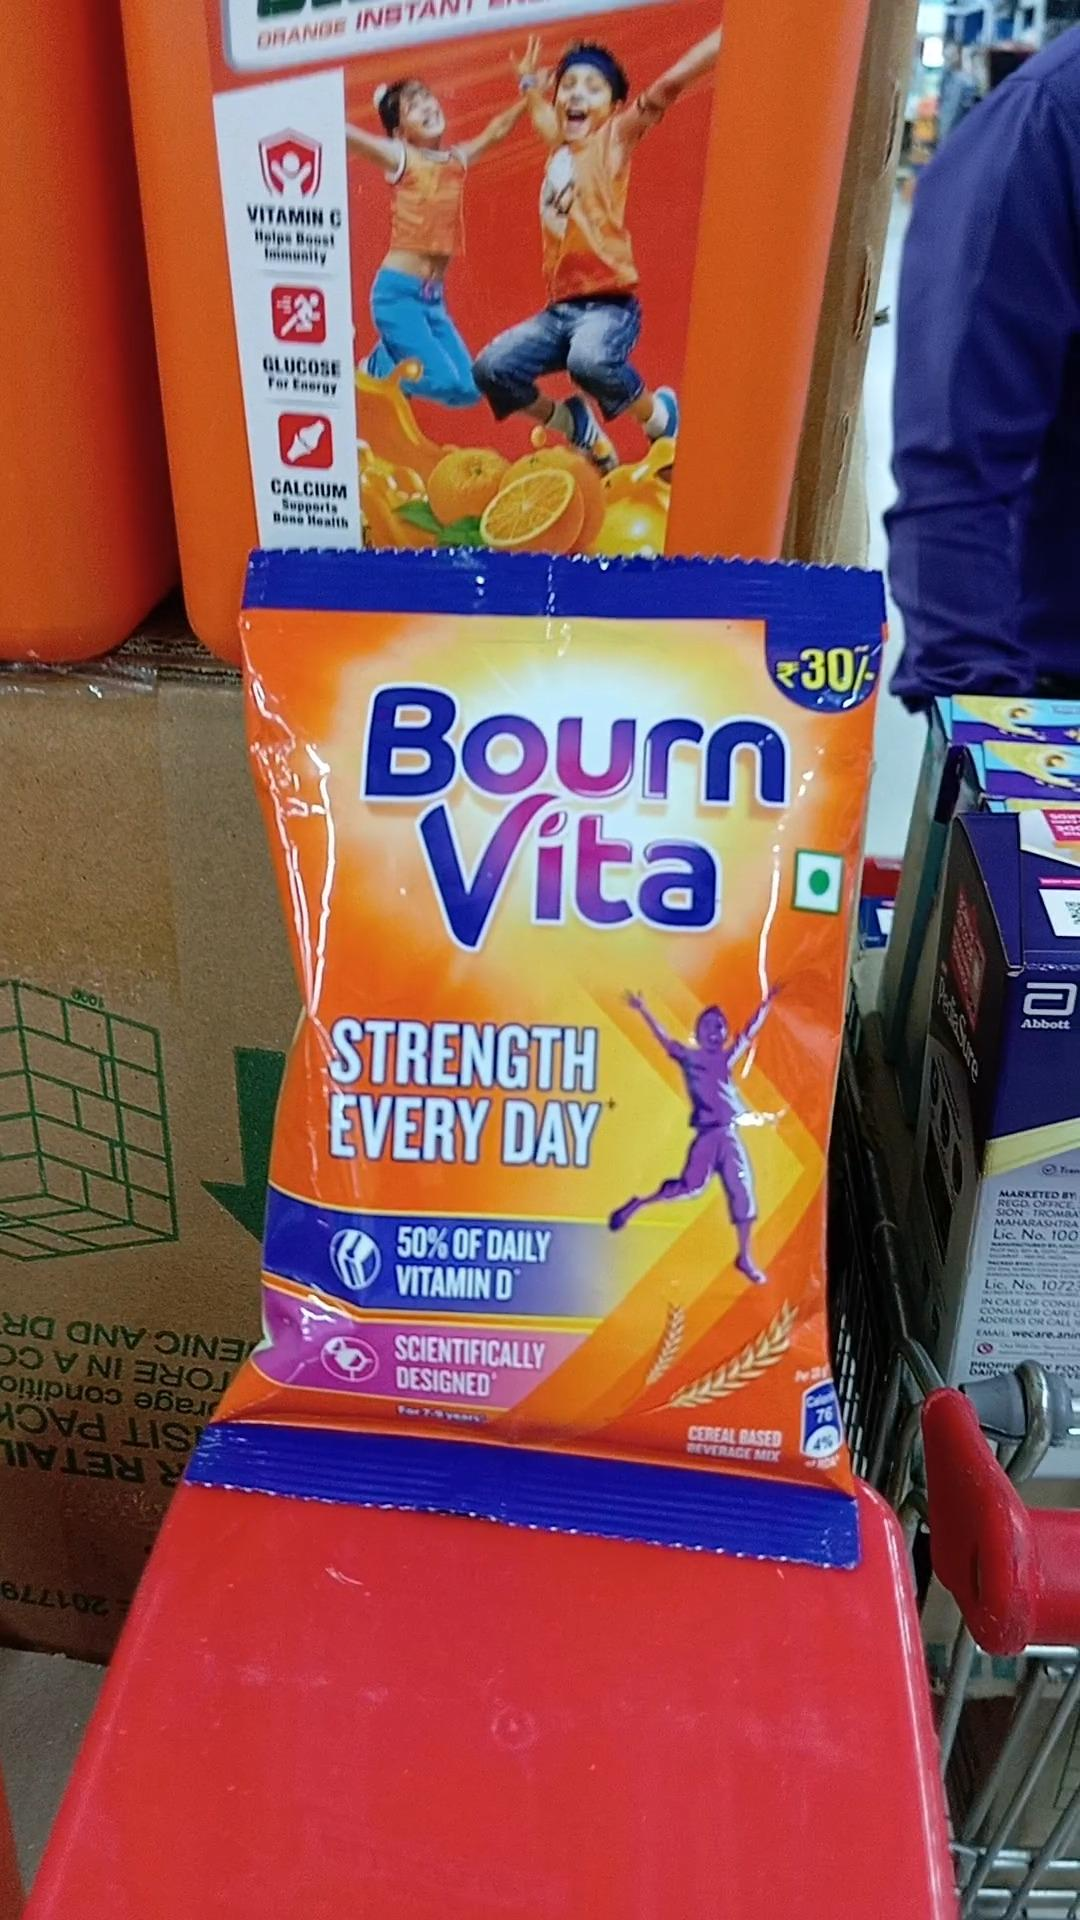BOURN_VITA_75_G_POUCH: (274, 529, 852, 1540)
